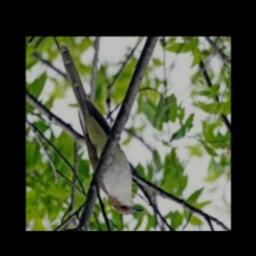Cuckoo: (60, 43, 144, 214)
